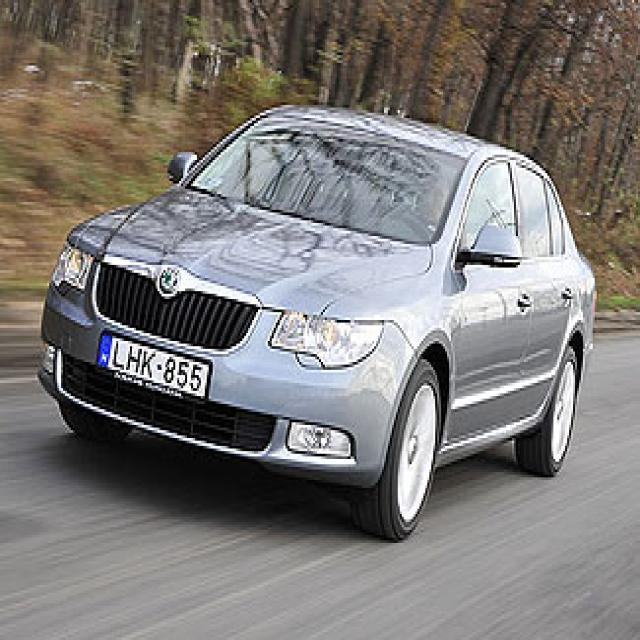licence: (97, 325, 212, 413)
